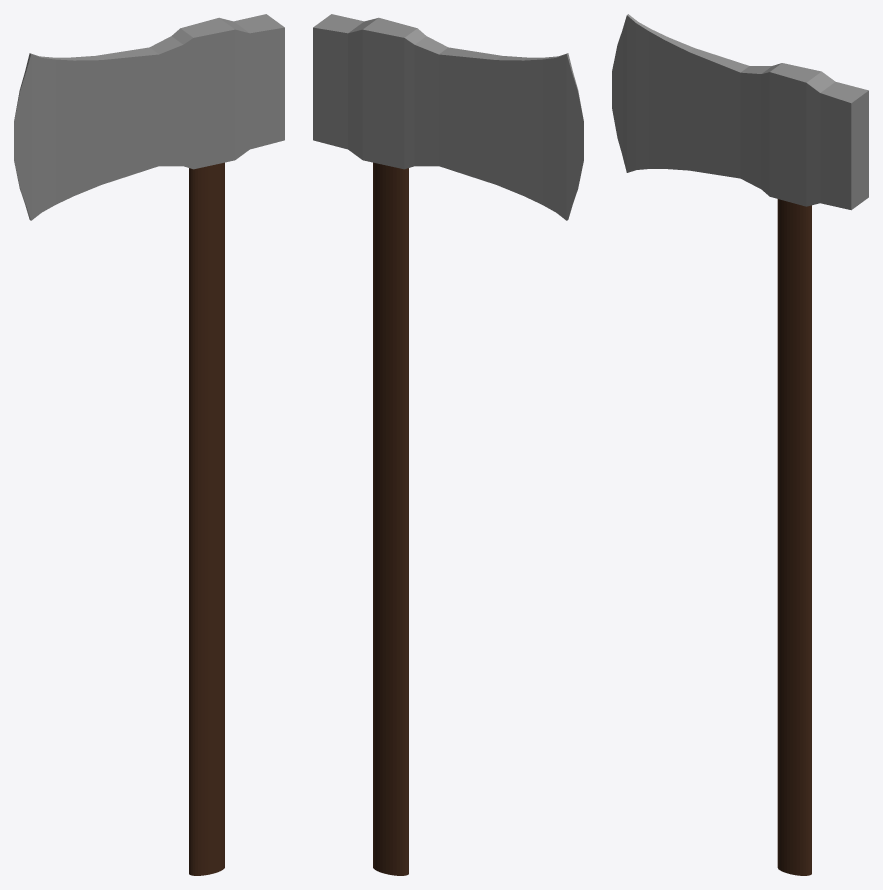
The model's file is Weapon_Axe.fbx.
3 views of the same model, side by side, from view 1: azimuth 30°, elevation 25°; view 2: azimuth 150°, elevation 25°; view 3: azimuth 330°, elevation 25° (orthographic). The views are drawn at different scales.
Visible parts, largest first — view 1: 실린더; view 2: 실린더; view 3: 실린더.
Boxes of the visible parts, x1,y1,x2,y2 form: 실린더: (14,14,284,875); 실린더: (313,14,583,875); 실린더: (612,14,868,875).
Size of the model in its own units: 151 by 472 by 18.45.
